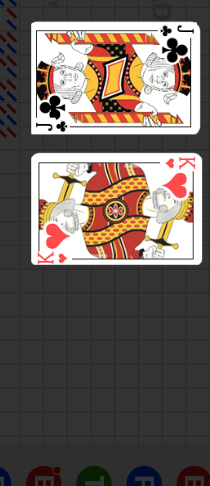JC: (157, 23, 195, 39)
KH: (36, 251, 69, 265)
